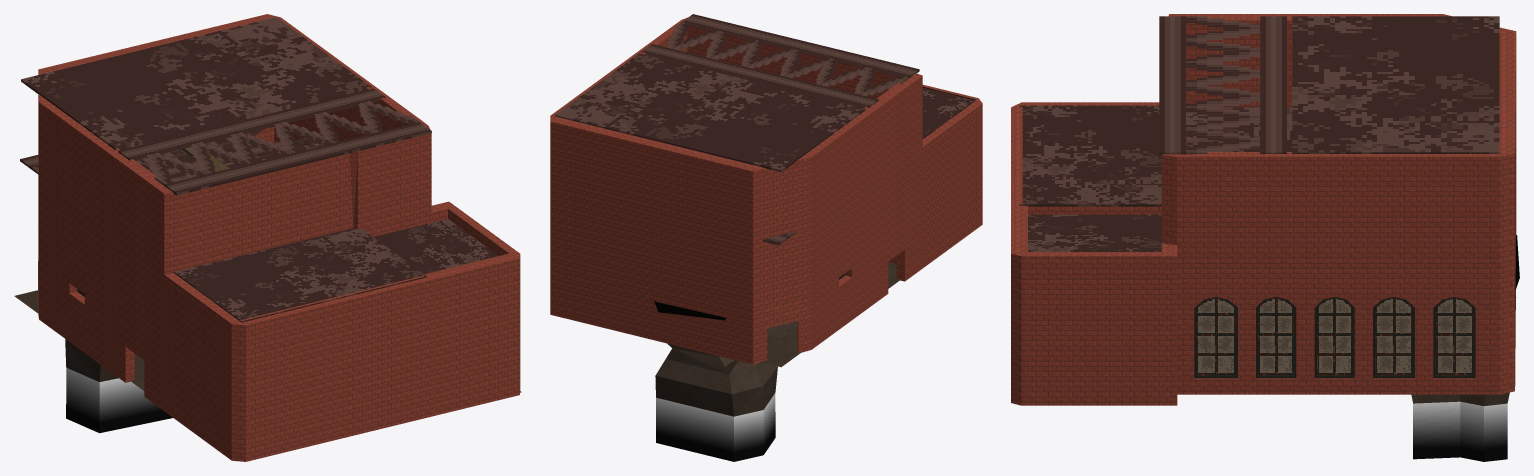
Rendered from Factory.fbx.
3 renders of one model, left to right at view 1: azimuth 30°, elevation 25°; view 2: azimuth 150°, elevation 25°; view 3: azimuth 270°, elevation 25°, orthographic. The views are drawn at different scales.
Visible parts, largest first — view 1: Paredes, Teto, Chão; view 2: Paredes, Teto, Chão, Floor Light; view 3: Paredes, Teto, Chão.
Boxes of the visible parts, x1,y1,x2,y2 form: Paredes: (38, 14, 520, 461); Teto: (20, 17, 498, 322); Chão: (14, 290, 521, 460); Paredes: (550, 17, 982, 364); Teto: (555, 14, 975, 245); Chão: (655, 262, 900, 461); Floor Light: (654, 300, 726, 320); Paredes: (1011, 14, 1516, 405); Teto: (1019, 16, 1499, 251); Chão: (1014, 297, 1516, 461).
Size of the model in its own units: 1966 by 2202 by 2746.
Materials: 9 (9 with a texture image).
